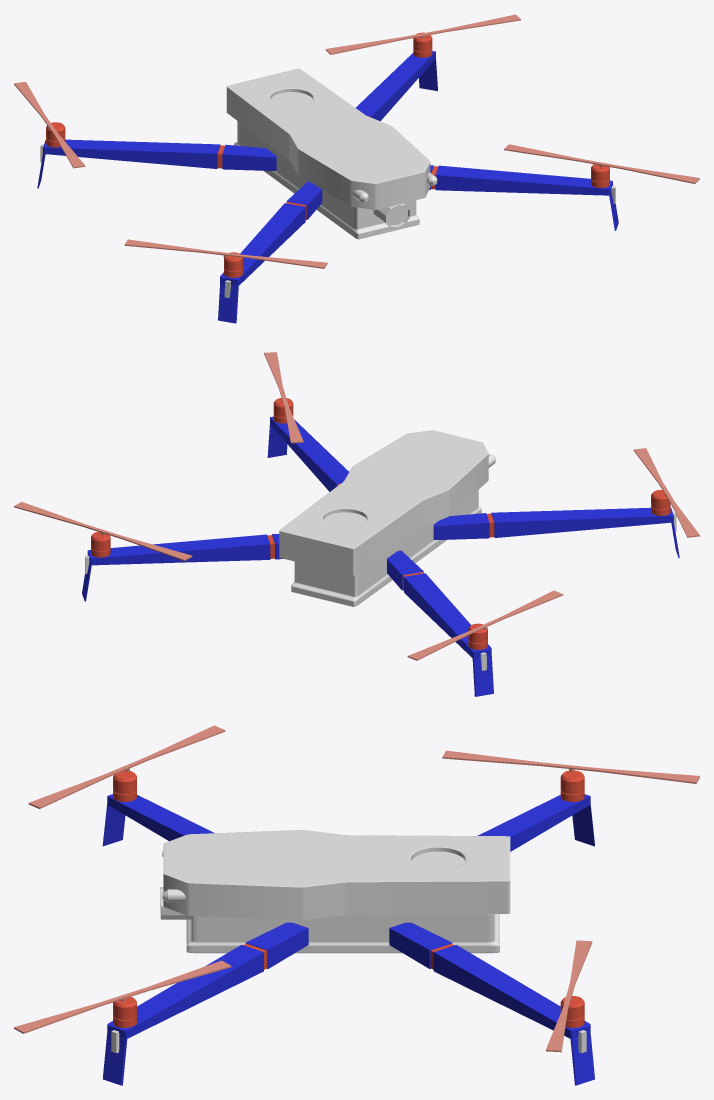
File: Quad Leg Drone.fbx
The picture shows the model from 3 angles, top to bottom: view 1: azimuth 30°, elevation 25°; view 2: azimuth 150°, elevation 25°; view 3: azimuth 270°, elevation 25°; orthographic projection. The views are drawn at different scales.
Visible parts, largest first — view 1: legs, body, stand, propeller3, propeller1, propeller2, propeller4, camera; view 2: legs, body, stand, propeller2, propeller4, propeller3, propeller1; view 3: body, legs, stand, propeller4, propeller1, propeller3, propeller2.
Part boxes in pixels (x1,y1,x2,y2): legs: (37, 32, 618, 323); body: (226, 68, 430, 209); stand: (234, 121, 419, 239); propeller3: (124, 239, 327, 268); propeller1: (504, 144, 699, 183); propeller2: (325, 14, 520, 54); propeller4: (14, 82, 85, 168); camera: (373, 203, 410, 227); legs: (82, 398, 679, 696); body: (279, 430, 488, 575); stand: (291, 490, 481, 606); propeller2: (14, 502, 192, 561); propeller4: (407, 590, 563, 660); propeller3: (633, 448, 699, 537); propeller1: (264, 352, 303, 443); body: (163, 830, 510, 920); legs: (102, 770, 594, 1085); stand: (186, 914, 499, 953); propeller4: (442, 750, 699, 783); propeller1: (14, 960, 231, 1033); propeller3: (28, 725, 225, 808); propeller2: (546, 940, 592, 1052).
Size of the model in its own units: 292 by 43.35 by 261.
